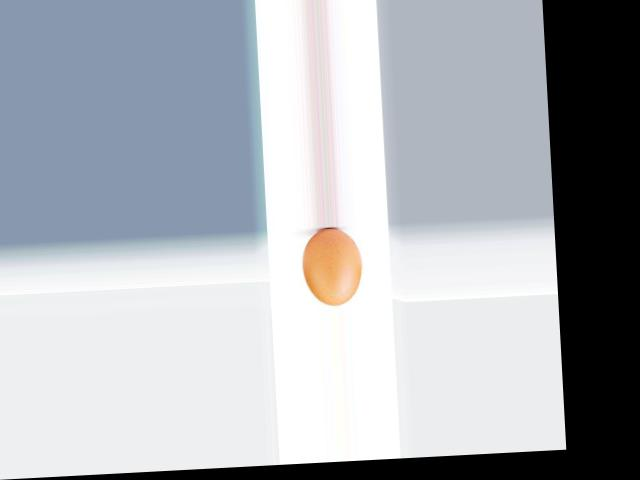egg: (300, 226, 363, 306)
